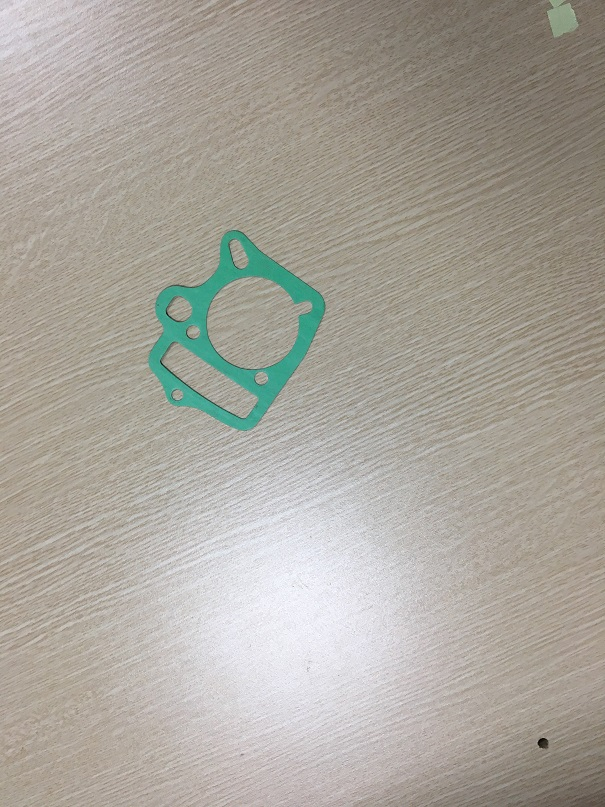type4: (138, 226, 334, 442)
